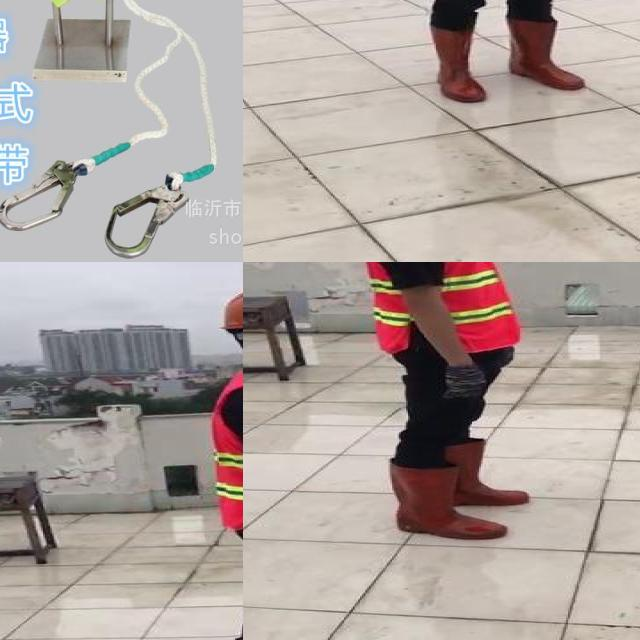boots: (386, 462, 505, 542), (502, 15, 600, 93), (447, 440, 531, 509), (426, 22, 485, 106)
hand_glove: (442, 366, 498, 400)
head_helmet: (219, 283, 243, 330)
person: (349, 262, 544, 548), (387, 0, 618, 103)
vest: (362, 262, 520, 352), (208, 373, 243, 531)
